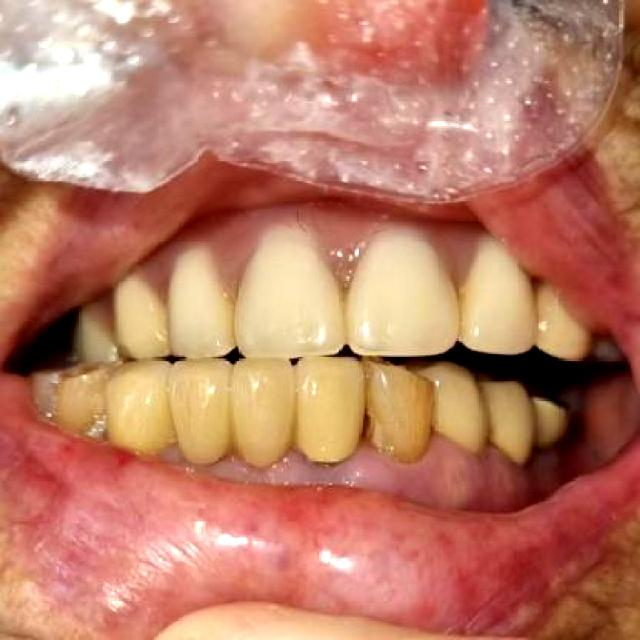Plaque: (347, 388, 402, 449)
